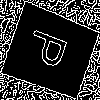P: (25, 26, 77, 74)
